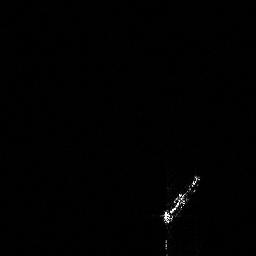ship: (162, 173, 202, 226)
